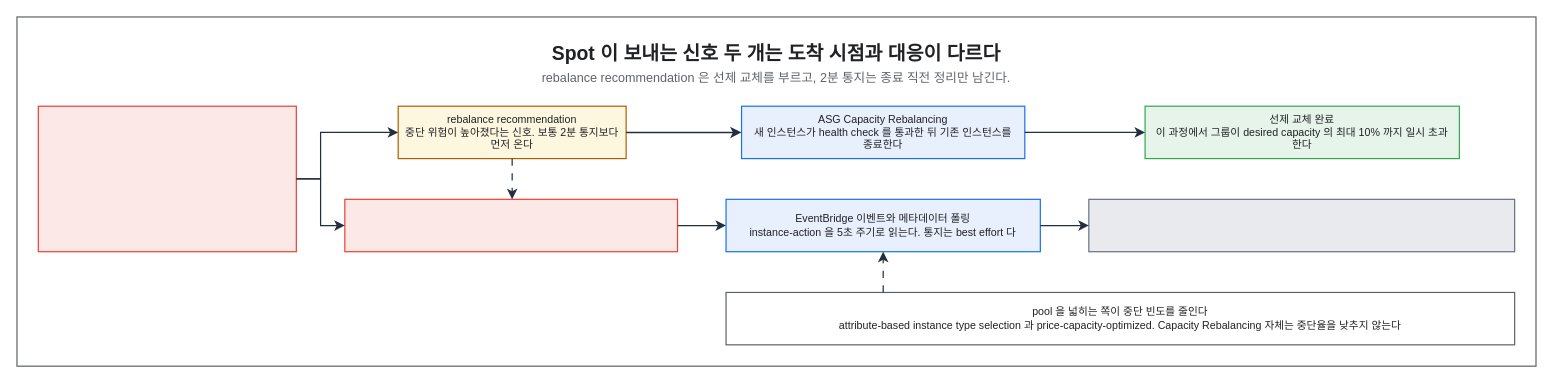
This 1554x384 diagram has some shape labels left out. Here are the shapes that lost their labels. From the top down, the centre of each, then its label:
the point at 167,178: EC2 가 Spot 용량을 회수한다 사유는 capacity, price, constraints 세 가지다
the point at 511,225: 2분 중단 통지 stop 과 terminate 만 받는다. hibernate 는 즉시 시작되어 통지가 없다
the point at 1301,225: 설정한 중단 동작 수행 terminate, stop, hibernate. persistent 요청에서는 Terminate 를 지정할 수 없다
